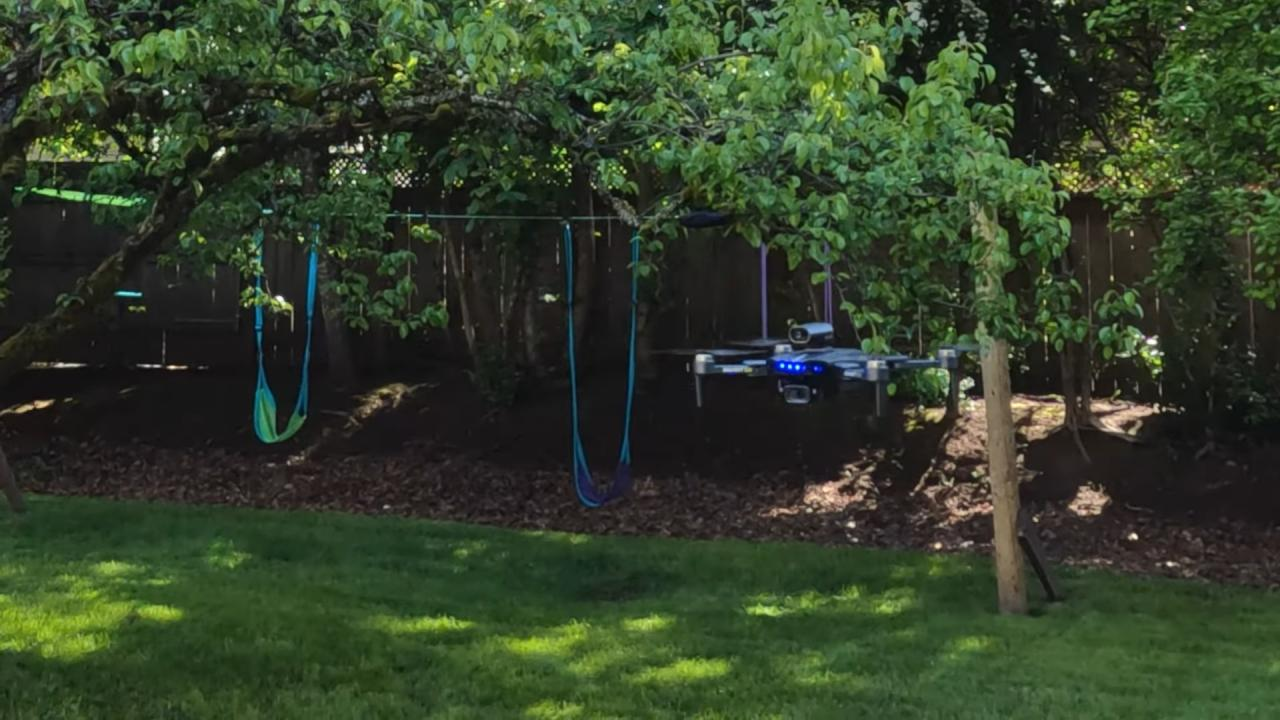Drone: (634, 302, 971, 418)
